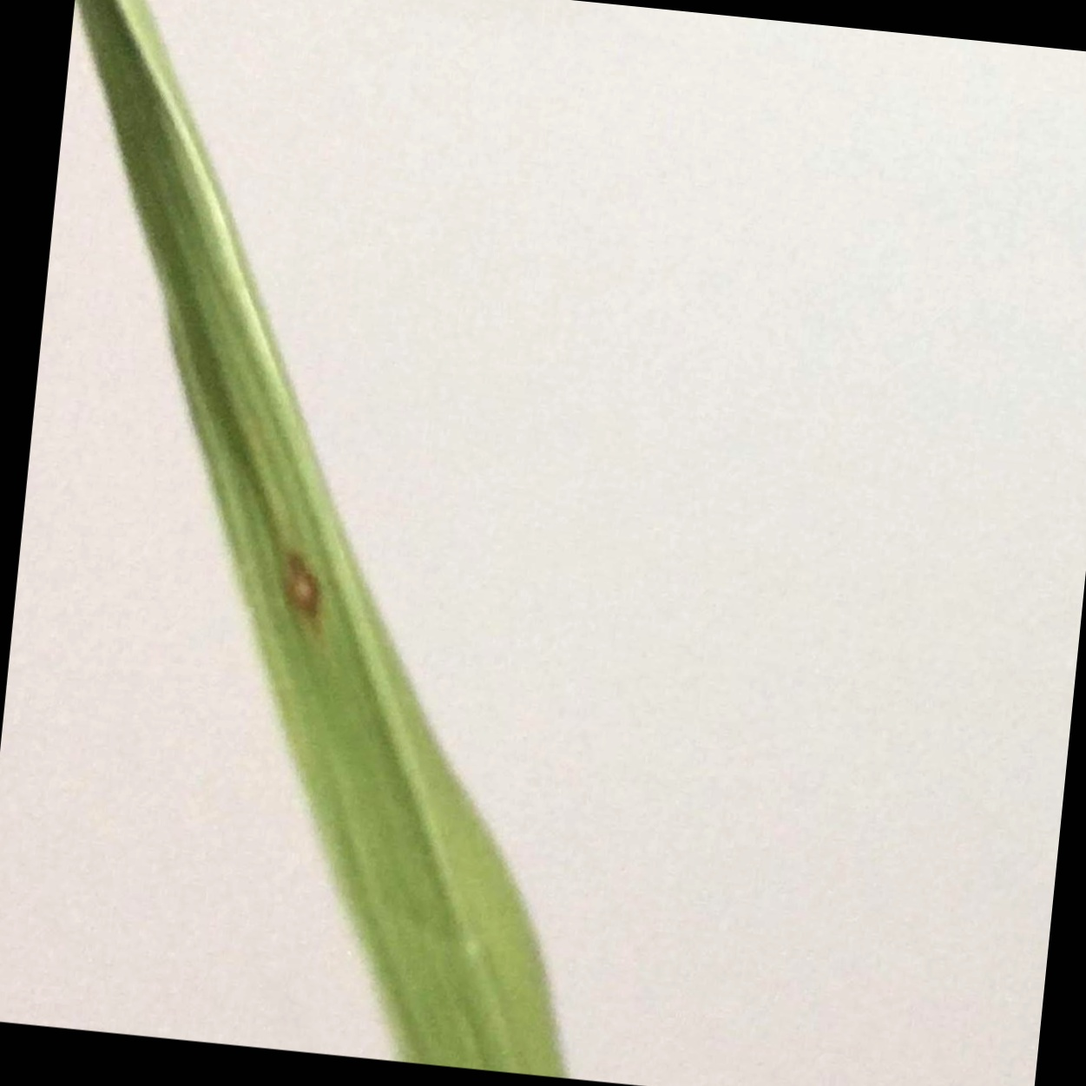Brown_Spot: (266, 498, 336, 631)
